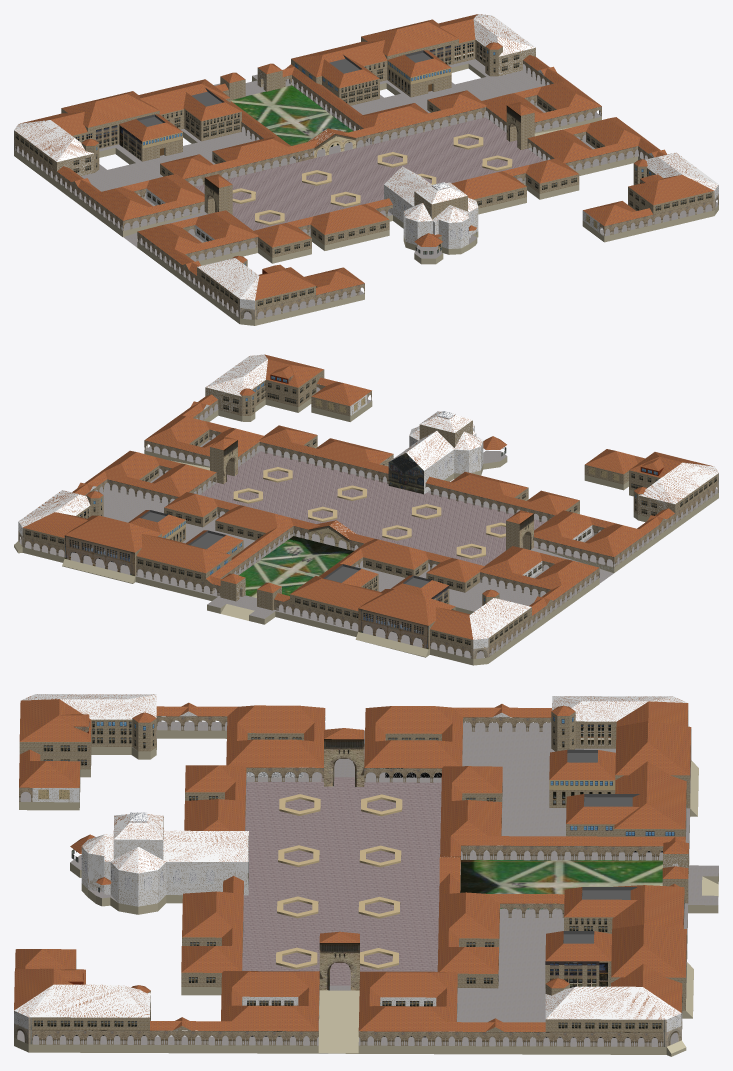
Rendered from stanfordquad.dae.
3 renders of one model, top to bottom at view 1: azimuth 30°, elevation 25°; view 2: azimuth 150°, elevation 25°; view 3: azimuth 270°, elevation 25°, orthographic. The views are drawn at different scales.
Visible parts, largest first — view 1: front_Right_1 (×22), Base (×4), QuadPart2 (×19), SketchUp (×3); view 2: Base (×4), front_Right_1 (×23), QuadPart2 (×14), SketchUp (×5); view 3: Base (×4), front_Right_1 (×24), QuadPart2 (×17), SketchUp (×7).
Boxes of the visible parts, x1,y1,x2,y2 form: front_Right_1 (×22): (14,14,601,230); Base (×4): (14,59,718,325); QuadPart2 (×19): (137,117,718,319); SketchUp (×3): (384,166,478,248); Base (×4): (14,387,718,665); front_Right_1 (×23): (18,450,599,656); QuadPart2 (×14): (144,354,718,567); SketchUp (×5): (388,411,483,494); Base (×4): (14,721,718,1056); front_Right_1 (×24): (358,696,691,1046); QuadPart2 (×17): (14,694,364,1045); SketchUp (×7): (81,814,460,906).
Bounding box in the file's own units: 11175 × 10162 × 1238.
29 materials, 21 textured.
